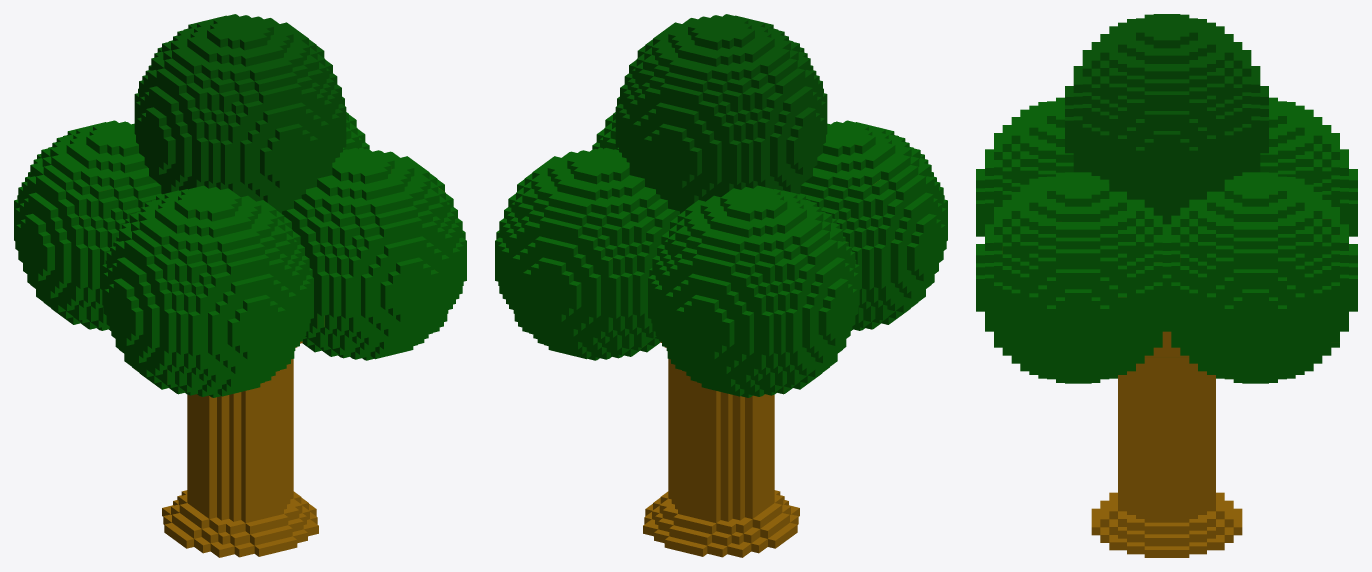
The model's file is Summer Tree01-2.fbx.
The picture shows the model from 3 angles, left to right: view 1: azimuth 30°, elevation 25°; view 2: azimuth 150°, elevation 25°; view 3: azimuth 270°, elevation 25°; orthographic projection.
Parts seen in each view (by area): view 1: Tree01-5, Tree01-4, Tree01-Stem, Tree01-Root; view 2: Tree01-5, Tree01-4, Tree01-Stem, Tree01-Root; view 3: Tree01-5, Tree01-4, Tree01-Stem, Tree01-Root.
Part boxes in pixels (x1,y1,x2,y2): Tree01-5: (14, 112, 466, 397); Tree01-4: (134, 14, 346, 191); Tree01-Stem: (187, 359, 293, 522); Tree01-Root: (162, 490, 318, 557); Tree01-5: (495, 112, 947, 397); Tree01-4: (615, 14, 827, 191); Tree01-Stem: (668, 359, 774, 522); Tree01-Root: (643, 490, 799, 557); Tree01-5: (976, 97, 1357, 383); Tree01-4: (1065, 14, 1268, 190); Tree01-Stem: (1118, 357, 1215, 522); Tree01-Root: (1091, 492, 1242, 557).
Size of the model in its own units: 430 by 620 by 430.
